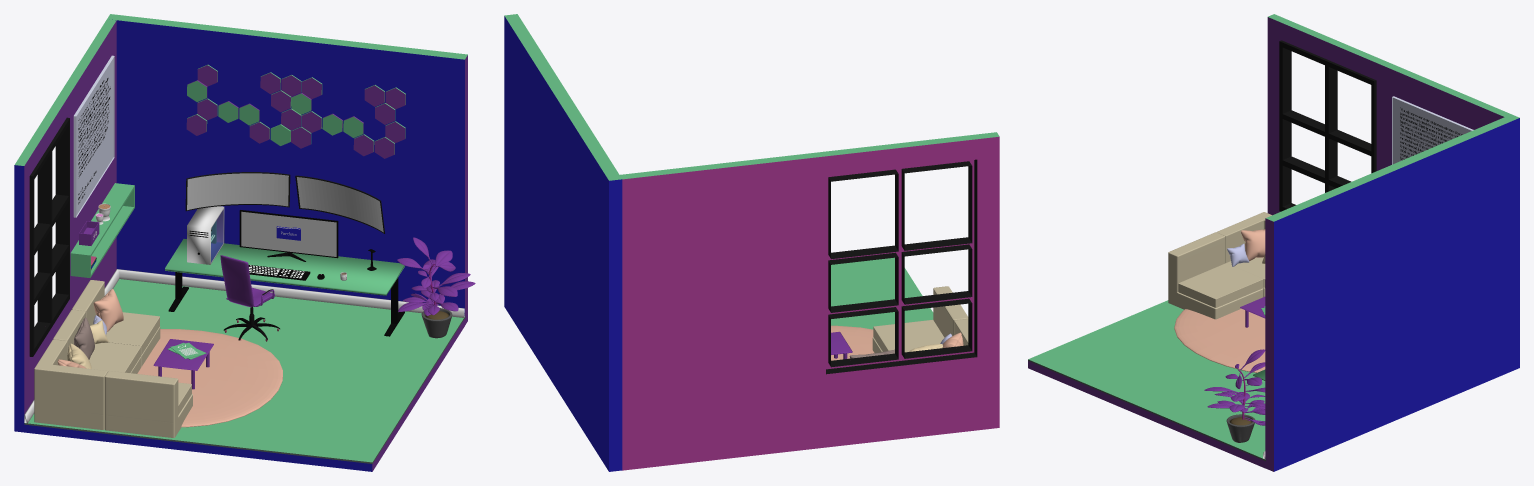
File: orthographicRoom.glb
3 views of the same model, side by side, from view 1: azimuth 30°, elevation 25°; view 2: azimuth 150°, elevation 25°; view 3: azimuth 270°, elevation 25° (orthographic). The views are drawn at different scales.
Parts seen in each view (by area): view 1: Walll, Wall, Plane.020, Table.002, Cube.003, Cube.002, Picture, Cylinder.020, Top left monitor, Monitor, Cylinder.021, Top right monitor (+16 smaller); view 2: Wall, Walll, Cube.004, Cube.002, Plane.020; view 3: Walll, Wall, Plane.020, Cube.002, Picture, Cube.004, Cube.003, Text.002, Plane.011.
Boxes of the visible parts, x1,y1,x2,y2 form: Walll: (107, 14, 467, 324); Wall: (14, 19, 465, 471); Plane.020: (137, 329, 282, 427); Table.002: (165, 239, 404, 295); Cube.003: (34, 339, 107, 429); Cube.002: (105, 371, 192, 437); Picture: (73, 55, 114, 217); Cylinder.020: (186, 64, 405, 158); Top left monitor: (185, 172, 290, 211); Monitor: (241, 211, 336, 256); Cylinder.021: (197, 98, 405, 143); Top right monitor: (295, 175, 384, 233); Wall: (620, 132, 999, 470); Walll: (504, 14, 622, 471); Cube.004: (873, 319, 944, 352); Cube.002: (872, 286, 968, 352); Plane.020: (831, 325, 874, 360); Walll: (1265, 114, 1519, 471); Wall: (1028, 14, 1510, 468); Plane.020: (1174, 308, 1265, 372); Cube.002: (1168, 232, 1263, 319); Picture: (1392, 96, 1473, 164); Cube.004: (1178, 263, 1263, 307); Cube.003: (1216, 212, 1271, 296); Text.002: (1400, 107, 1462, 159); Plane.011: (1241, 229, 1265, 260).
Size of the model in its own units: 10.92 by 6.13 by 10.92.
